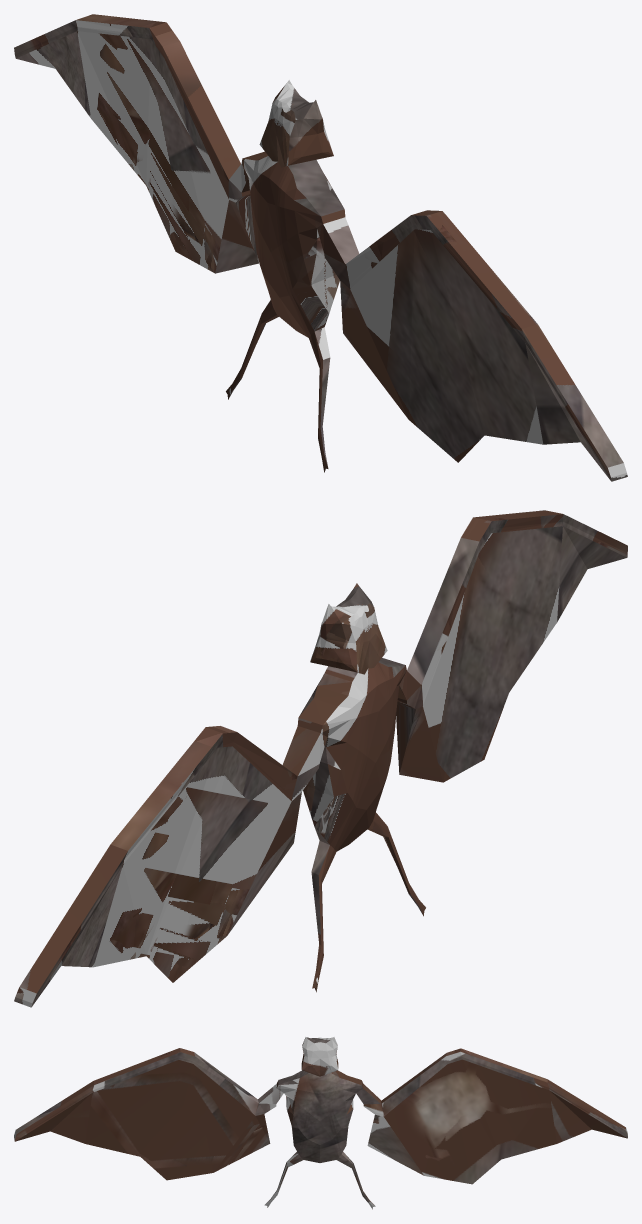
File: Enemigo130.obj
3 renders of one model, top to bottom at view 1: azimuth 30°, elevation 25°; view 2: azimuth 150°, elevation 25°; view 3: azimuth 270°, elevation 25°, orthographic. The views are drawn at different scales.
Parts seen in each view (by area): view 1: Plano; view 2: Plano; view 3: Plano.
Part boxes in pixels (<box>): Plano: <box>14,14,627,481</box>; Plano: <box>14,510,627,1007</box>; Plano: <box>14,1037,627,1209</box>.
Size of the model in its own units: 0.1621 by 0.7536 by 2.34.
1 material, 1 textured.
